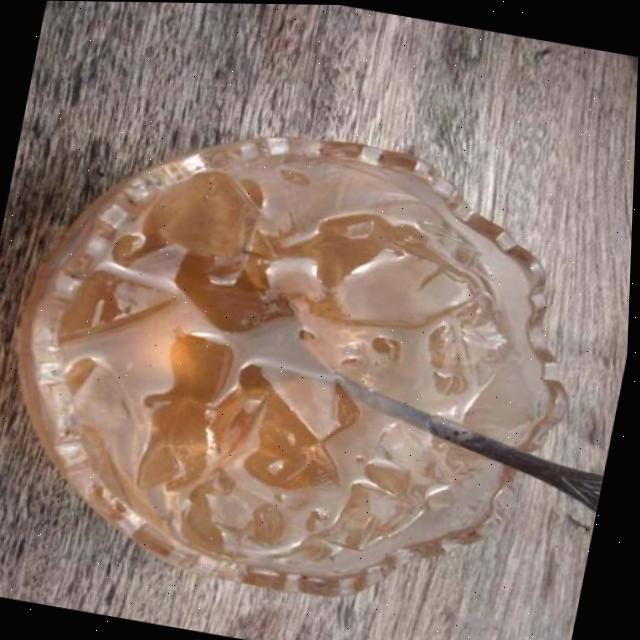蛋糕甜品: (0, 80, 618, 633)
